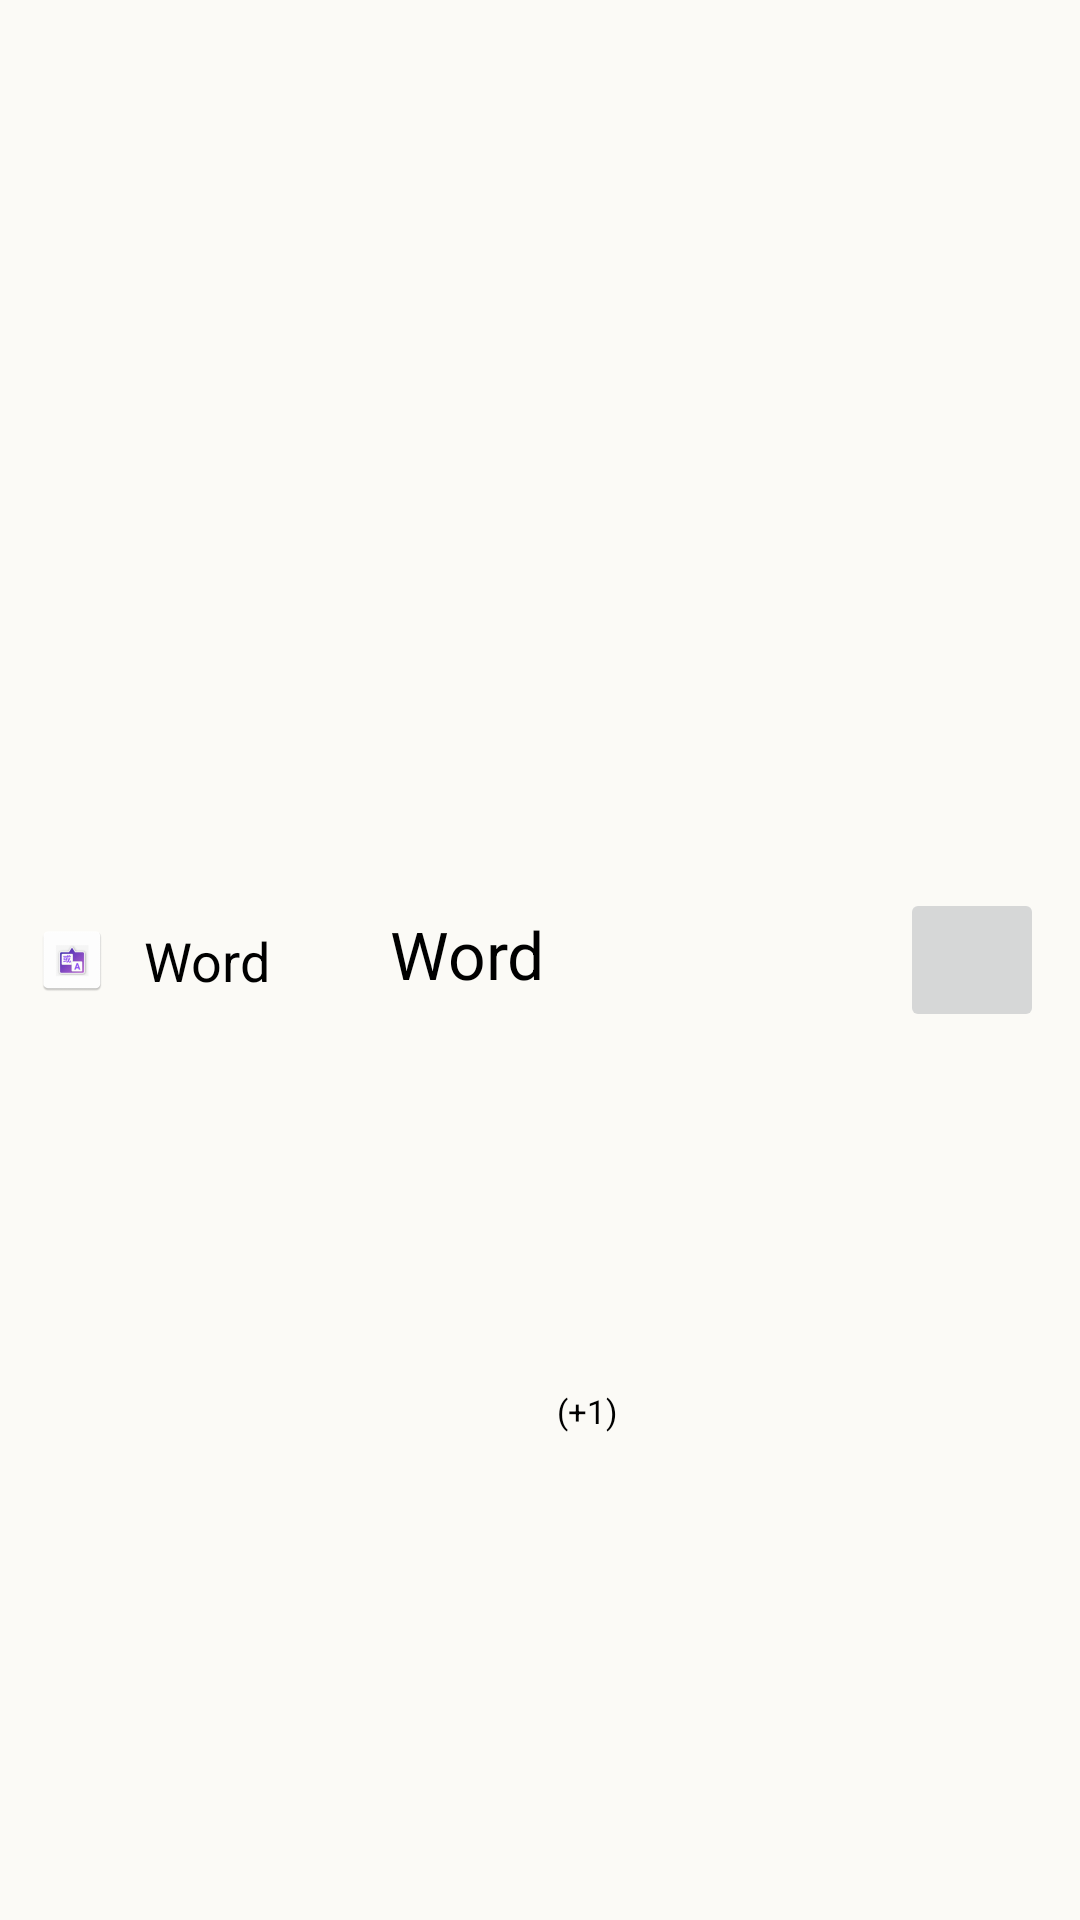

Named icons in this screenshot (1080 × 1920) and their bounding boxes, {"x1": x1, "y1": y1, "x2": x2, "y2": y2}:
Foreign Language Flag: {"x1": 44, "y1": 937, "x2": 101, "y2": 990}
